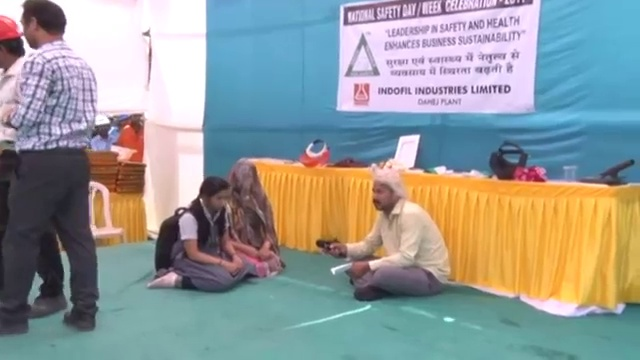helmet: (0, 5, 21, 44), (110, 145, 136, 163), (93, 114, 111, 128), (117, 113, 128, 122)
helmet_off: (14, 0, 68, 50), (365, 167, 405, 218), (228, 164, 264, 213), (194, 177, 226, 219), (128, 113, 145, 131)
helmet_on: (0, 11, 25, 77), (93, 114, 111, 141), (117, 113, 131, 128)
person: (0, 0, 100, 331), (0, 14, 66, 326), (328, 165, 452, 303), (152, 177, 255, 299), (226, 163, 287, 281), (119, 113, 144, 163), (89, 113, 120, 152)
